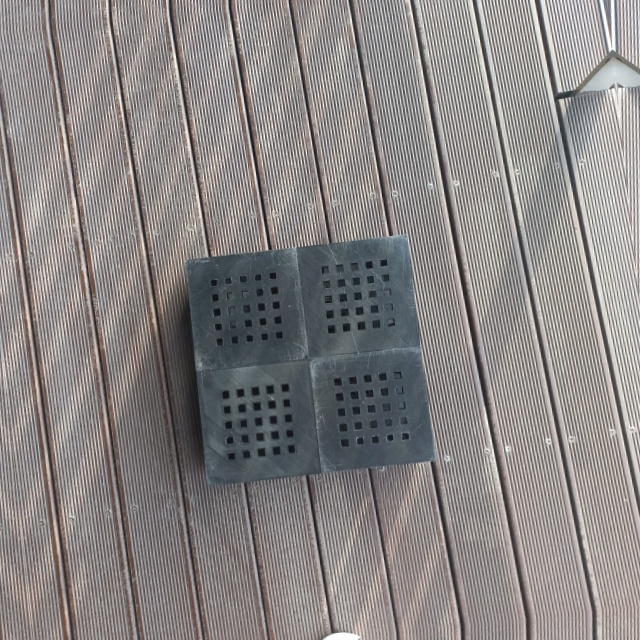pallet: (176, 232, 442, 493)
